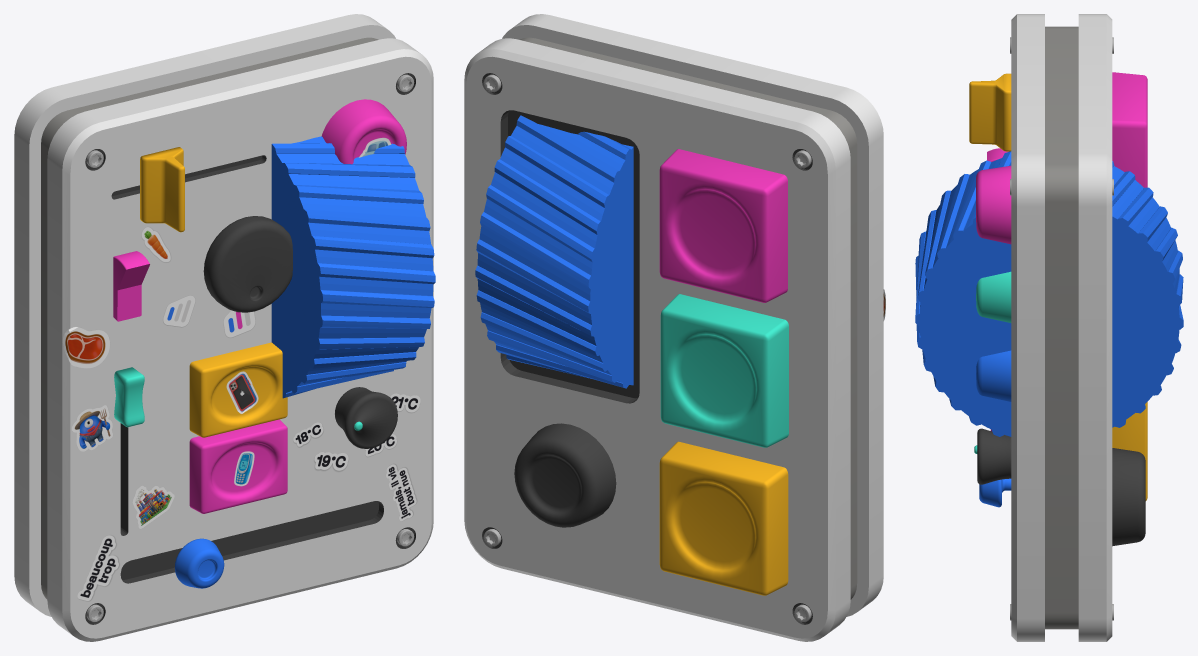
Rendered from config-new.glb.
The picture shows the model from 3 angles, left to right: view 1: azimuth 30°, elevation 25°; view 2: azimuth 150°, elevation 25°; view 3: azimuth 270°, elevation 25°; orthographic projection. The views are drawn at different scales.
Visible parts, largest first — view 1: object.001, gear-real, 6b, 3, 6a, 1, 2a, 7, 4, 8, 5, 4a-stickers (+7 smaller); view 2: object.001, gear-real, spot-1, spot-3, spot-2, gear-fake, reset; view 3: object.001, gear-real, gear-fake, spot-3, reset, 1, 2a, 7, 2c, 2b, spot-1, 8.
Part boxes in pixels (bbox=[...]): object.001: bbox=[14, 14, 433, 641]; gear-real: bbox=[271, 136, 435, 398]; 6b: bbox=[189, 419, 287, 513]; 3: bbox=[203, 216, 292, 312]; 6a: bbox=[189, 342, 287, 437]; 1: bbox=[140, 147, 184, 232]; 2a: bbox=[321, 99, 406, 164]; 7: bbox=[335, 387, 397, 448]; 4: bbox=[113, 251, 149, 321]; 8: bbox=[174, 538, 224, 588]; 5: bbox=[114, 367, 144, 427]; 4a-stickers: bbox=[62, 327, 109, 368]; object.001: bbox=[464, 14, 883, 641]; gear-real: bbox=[475, 115, 633, 388]; spot-1: bbox=[659, 441, 788, 595]; spot-3: bbox=[659, 149, 787, 302]; spot-2: bbox=[660, 294, 788, 447]; gear-fake: bbox=[475, 115, 632, 386]; reset: bbox=[514, 423, 616, 527]; object.001: bbox=[1011, 14, 1112, 641]; gear-real: bbox=[915, 151, 1183, 436]; gear-fake: bbox=[1112, 161, 1183, 427]; spot-3: bbox=[1112, 72, 1147, 187]; reset: bbox=[1112, 448, 1145, 546]; 1: bbox=[969, 73, 1011, 151]; 2a: bbox=[976, 165, 1011, 244]; 7: bbox=[974, 428, 1011, 484]; 2c: bbox=[976, 350, 1011, 401]; 2b: bbox=[976, 271, 1011, 322]; spot-1: bbox=[1112, 402, 1147, 500]; 8: bbox=[979, 478, 1011, 507].
Bounding box in the file's own units: 9.41 × 12.47 × 6.25.
Materials: 28 (18 with a texture image).
